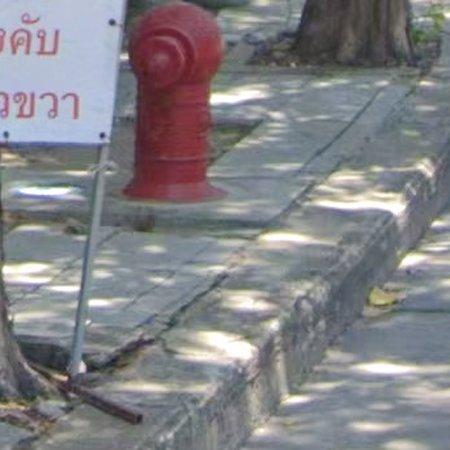a fire hydrant: (124, 3, 224, 202)
